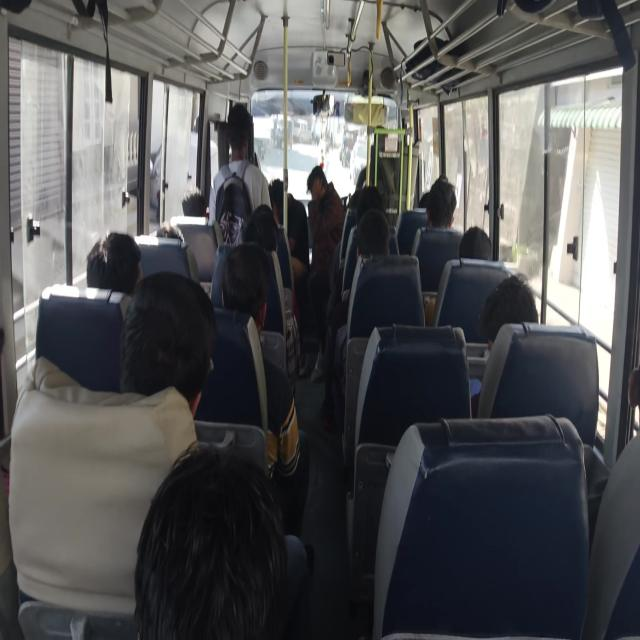person: (134, 444, 292, 638), (118, 271, 216, 408), (441, 225, 502, 351), (305, 168, 343, 368), (476, 273, 540, 347), (220, 241, 270, 330), (86, 231, 142, 297), (420, 177, 461, 246), (223, 103, 257, 162), (354, 207, 391, 260), (240, 205, 278, 254), (457, 225, 492, 262), (353, 185, 385, 221), (86, 247, 106, 290), (266, 178, 292, 211), (181, 188, 206, 218), (156, 223, 184, 242), (346, 189, 364, 210), (355, 168, 367, 191), (418, 192, 431, 210)
